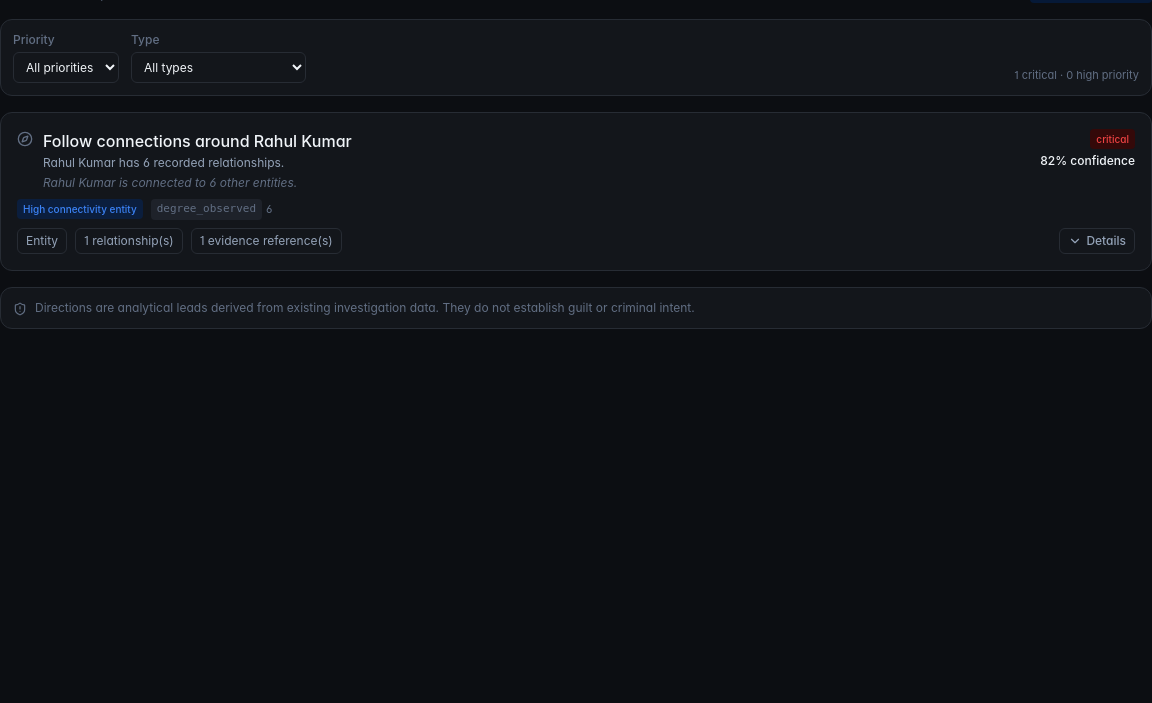
Test: InvestigationDirectionsTab — detail panel & filters (Phase 27) › expands a direction into its grounding facts and related workspace objects
The width and height of the screenshot is (1152, 703).
Expected: the element with test id "direction-row" is shown, x1=0 y1=112 x2=1151 y2=270
Step 1. Click the button with test id "direction-expand-dir-abc" → (1097, 240), box x1=1059 y1=228 x2=1135 y2=254
(page scrolled)
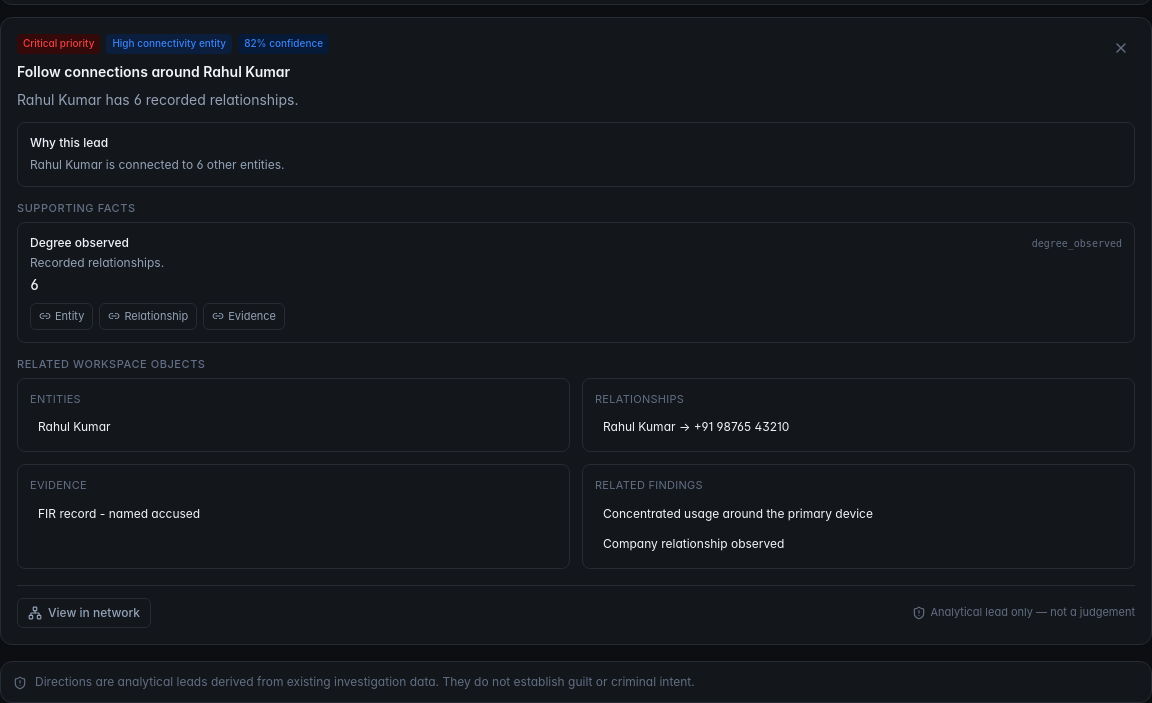
Expected: the element with test id "direction-detail-panel" is shown
Expected: the text "Why this lead" is shown, x1=30 y1=134 x2=108 y2=150
Expected: the text "Degree observed" is shown, x1=30 y1=235 x2=129 y2=251
